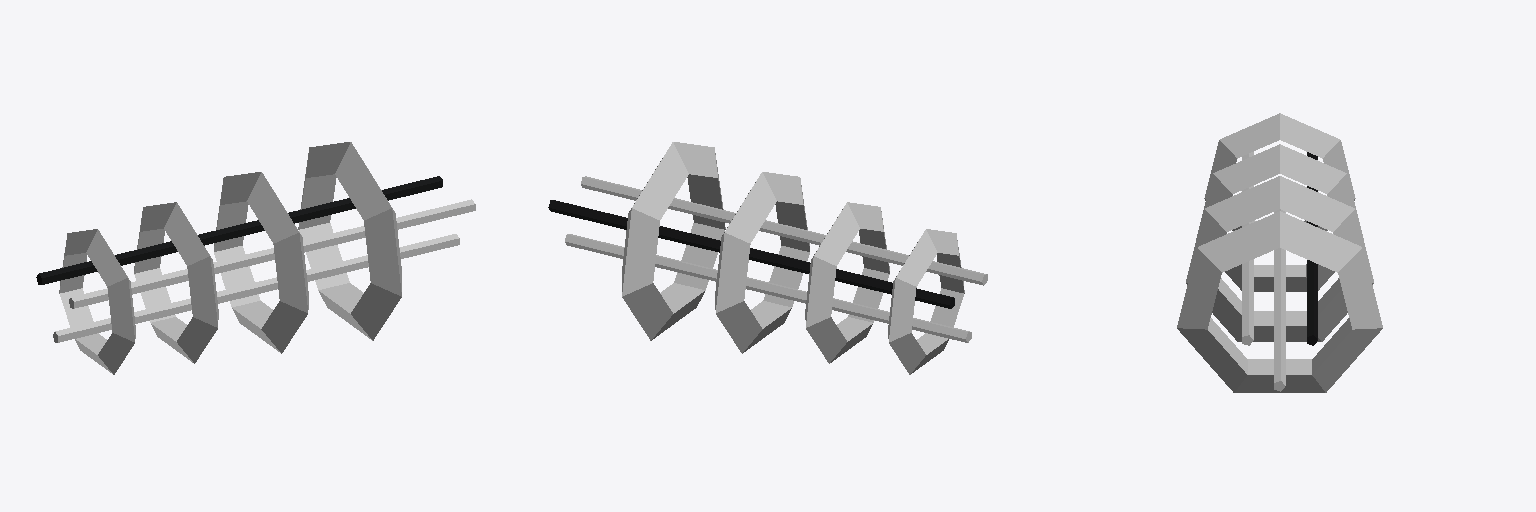
3 renders of one model, left to right at view 1: azimuth 30°, elevation 25°; view 2: azimuth 150°, elevation 25°; view 3: azimuth 270°, elevation 25°, orthographic.
Visible parts, largest first — view 1: Torus.002, Torus.001, Torus, Torus.003, Cylinder.010_Cylinder.037, Cylinder.011_Cylinder.038, Cylinder.012_Cylinder.039; view 2: Torus.002, Torus.001, Torus, Torus.003, Cylinder.010_Cylinder.037, Cylinder.012_Cylinder.039, Cylinder.011_Cylinder.038; view 3: Torus.002, Torus.001, Torus, Torus.003, Cylinder.012_Cylinder.039, Cylinder.010_Cylinder.037, Cylinder.011_Cylinder.038.
Boxes of the visible parts, x1=… form: Torus.002: x1=298, y1=142, x2=401, y2=340; Torus.001: x1=214, y1=172, x2=308, y2=353; Torus: x1=134, y1=202, x2=218, y2=363; Torus.003: x1=59, y1=229, x2=135, y2=374; Cylinder.010_Cylinder.037: x1=69, y1=199, x2=475, y2=308; Cylinder.011_Cylinder.038: x1=36, y1=176, x2=442, y2=284; Cylinder.012_Cylinder.039: x1=53, y1=234, x2=459, y2=342; Torus.002: x1=622, y1=142, x2=725, y2=340; Torus.001: x1=715, y1=172, x2=809, y2=353; Torus: x1=805, y1=202, x2=889, y2=363; Torus.003: x1=888, y1=229, x2=964, y2=374; Cylinder.010_Cylinder.037: x1=581, y1=176, x2=987, y2=285; Cylinder.012_Cylinder.039: x1=565, y1=234, x2=971, y2=342; Cylinder.011_Cylinder.038: x1=548, y1=200, x2=954, y2=308; Torus.002: x1=1177, y1=211, x2=1382, y2=392; Torus.001: x1=1186, y1=176, x2=1373, y2=341; Torus: x1=1196, y1=144, x2=1363, y2=291; Torus.003: x1=1204, y1=113, x2=1355, y2=230; Cylinder.012_Cylinder.039: x1=1274, y1=209, x2=1285, y2=391; Cylinder.010_Cylinder.037: x1=1242, y1=152, x2=1253, y2=345; Cylinder.011_Cylinder.038: x1=1307, y1=152, x2=1317, y2=345.
Size of the model in its own units: 4.36 by 1.9 by 1.94.
2 materials, 1 textured.